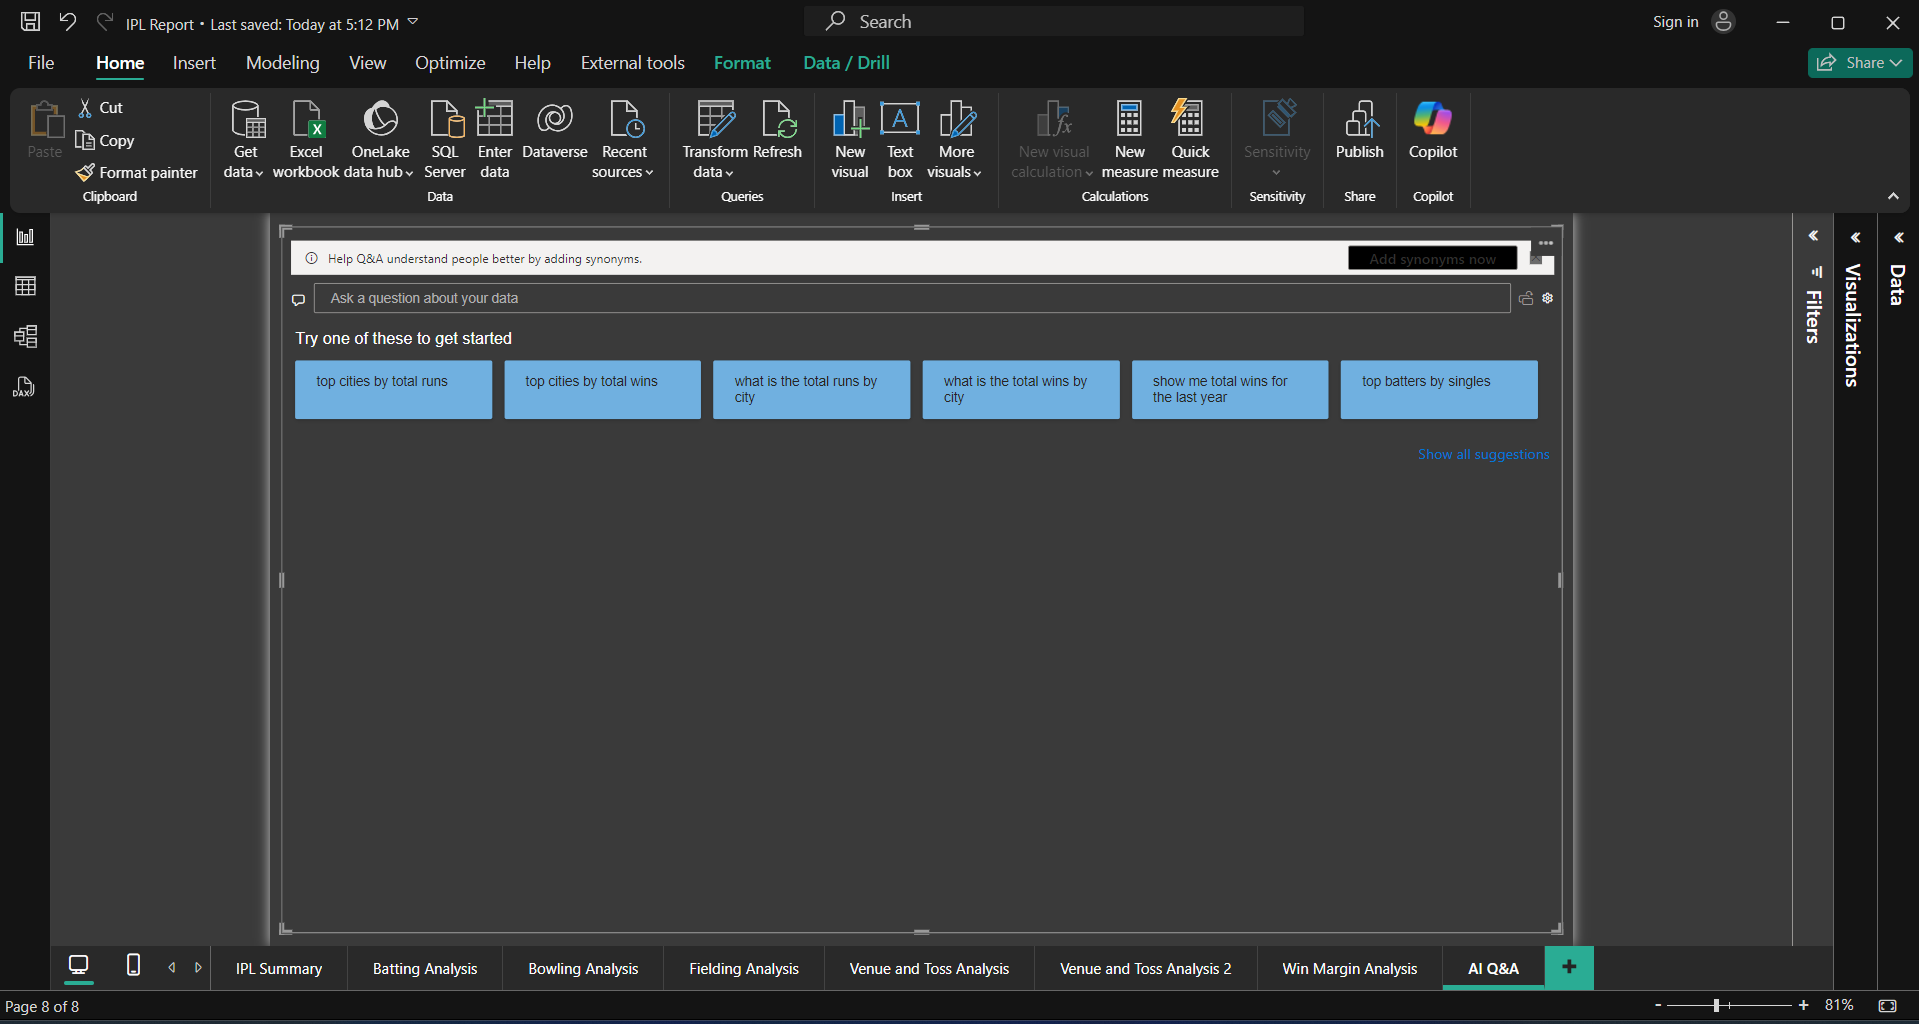

The page's visual inventory and layout, read from the dashboard file:
{"tool":"powerbi","page":{"name":"AI Q&A","canvas":[1280,720],"ordinal":7},"visuals":[{"type":"qnaVisual","box":[11.4,13.9,1257.7,693.5],"z":0}]}

Visuals, with their boxes on the page's 1280x720 design canvas (x1, y1, x2, y2). These are canvas units, not pixel positions in the 1919x1024 screenshot, which may show the page scaled, cropped or inside an application window:
qnaVisual: box(11, 14, 1269, 707)
